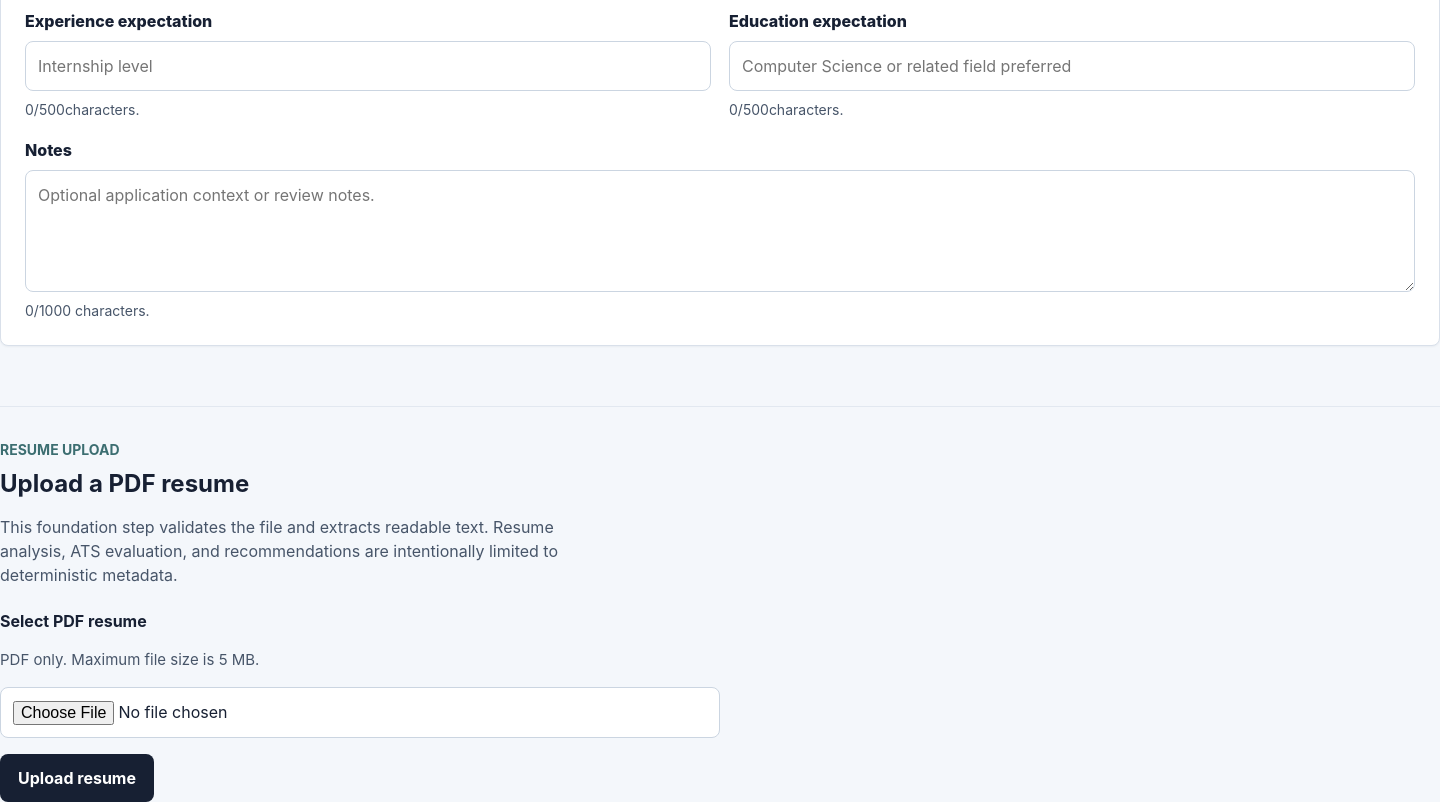
Test: ResumeUploadForm › focuses a clear empty-upload error when submitting without a selected file
(page scrolled)
Click the button "Upload resume": (77,778) x1=0 y1=754 x2=154 y2=801
(page scrolled)
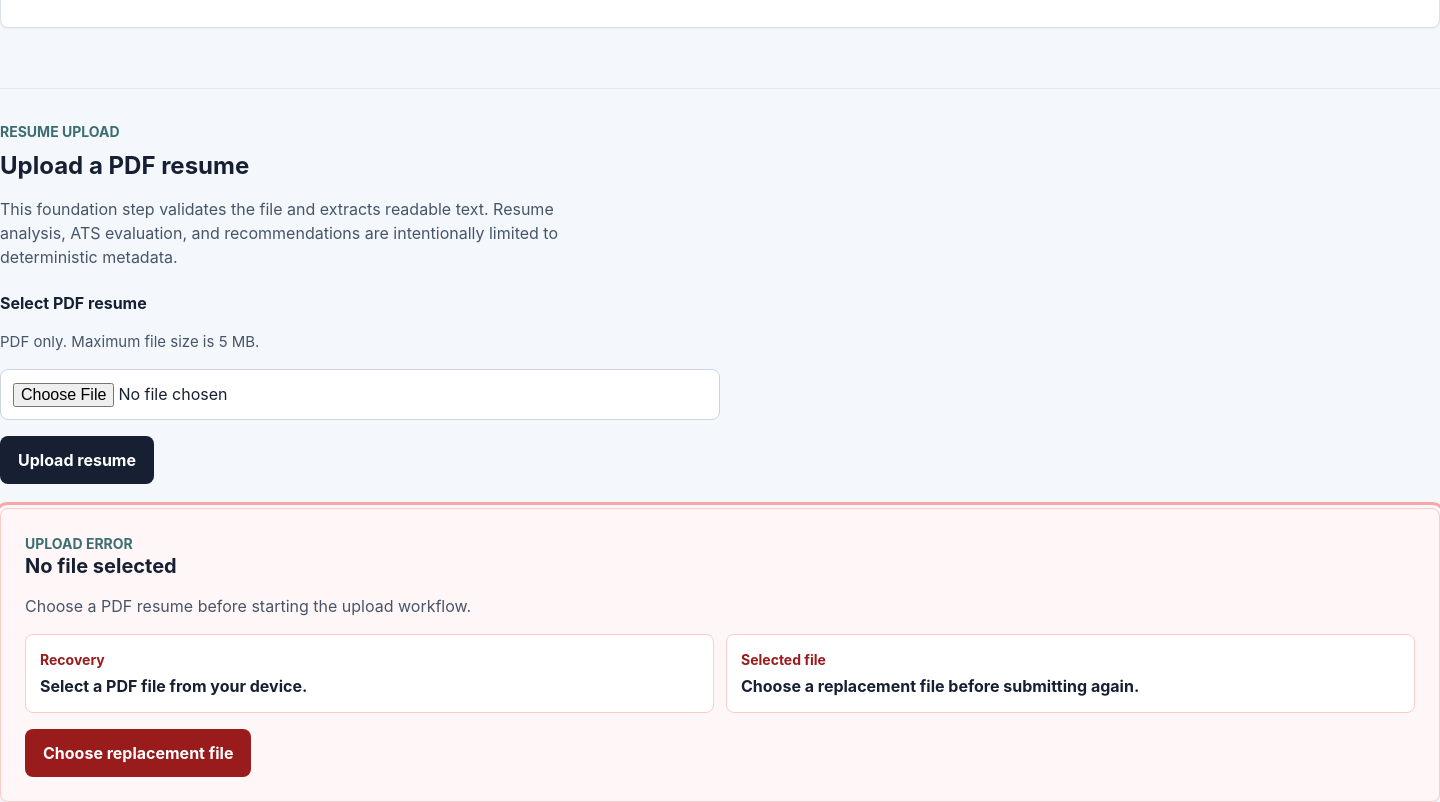
Now the text "Upload Error" is shown, box x1=25 y1=535 x2=133 y2=552
Now the heading "No file selected" is shown, box x1=25 y1=554 x2=177 y2=578
Now the text "Choose a PDF resume before starting the upload workflow." is shown, box x1=25 y1=596 x2=471 y2=616
